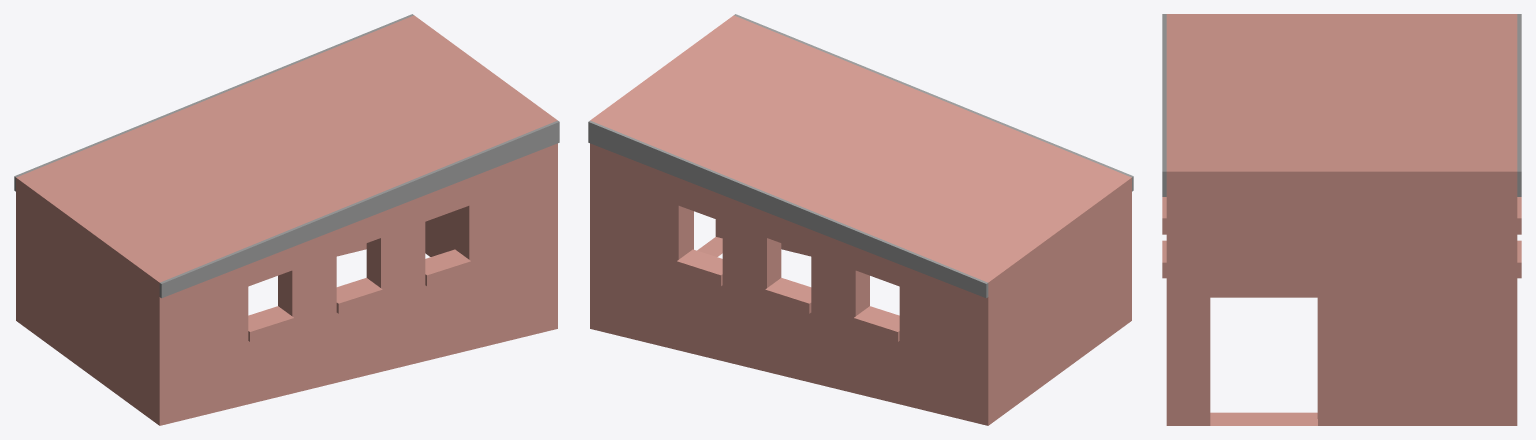
File: store.glb
The picture shows the model from 3 angles, left to right: view 1: azimuth 30°, elevation 25°; view 2: azimuth 150°, elevation 25°; view 3: azimuth 270°, elevation 25°; orthographic projection. The views are drawn at different scales.
Visible parts, largest first — view 1: right wall, left wall, back wall, outcrop thing (right), facade wall, outcrop thing (left); view 2: left wall, back wall, right wall, outcrop thing (left), facade wall, outcrop thing (right); view 3: facade wall, left wall, right wall, outcrop thing (left), outcrop thing (right).
Boxes of the visible parts, x1,y1,x2,y2 form: right wall: [145, 110, 557, 425]; left wall: [16, 15, 520, 330]; back wall: [30, 202, 145, 414]; outcrop thing (right): [159, 120, 559, 298]; facade wall: [407, 26, 542, 256]; outcrop thing (left): [14, 14, 413, 191]; left wall: [590, 35, 1117, 425]; back wall: [1002, 202, 1117, 414]; right wall: [719, 15, 1131, 330]; outcrop thing (left): [588, 120, 988, 298]; facade wall: [605, 26, 740, 256]; outcrop thing (right): [734, 14, 1133, 191]; facade wall: [1201, 163, 1482, 425]; left wall: [1201, 14, 1521, 425]; right wall: [1162, 14, 1201, 425]; outcrop thing (left): [1517, 14, 1521, 196]; outcrop thing (right): [1162, 14, 1166, 196].
Bounding box in the file's own units: 8 × 4 × 5.12.
